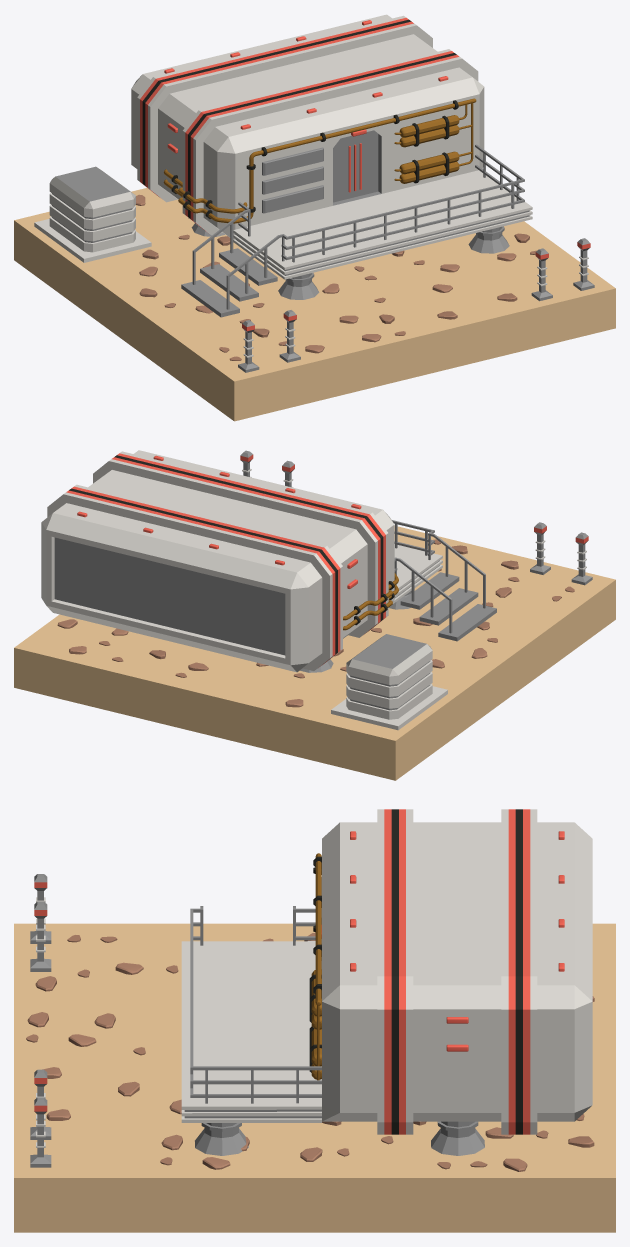
The model's file is 00 Space_19.FBX.
3 views of the same model, one above another, from view 1: azimuth 30°, elevation 25°; view 2: azimuth 150°, elevation 25°; view 3: azimuth 270°, elevation 25° (orthographic). The views are drawn at different scales.
Parts seen in each view (by area): view 1: Box043, Box001, Box048, Box071; view 2: Box043, Box001, Box048, Box087, Box086; view 3: Box043, Box001, Box071, Box086.
Boxes of the visible parts, x1=… form: Box043: x1=131, y1=14, x2=532, y2=317; Box001: x1=14, y1=188, x2=615, y2=421; Box048: x1=34, y1=166, x2=151, y2=262; Box071: x1=573, y1=238, x2=594, y2=290; Box043: x1=41, y1=450, x2=496, y2=672; Box001: x1=14, y1=526, x2=615, y2=780; Box048: x1=331, y1=634, x2=447, y2=730; Box087: x1=571, y1=532, x2=592, y2=585; Box086: x1=530, y1=522, x2=550, y2=574; Box043: x1=181, y1=809, x2=592, y2=1155; Box001: x1=14, y1=923, x2=615, y2=1232; Box071: x1=30, y1=1097, x2=51, y2=1167; Box086: x1=30, y1=901, x2=51, y2=971.
Bounding box in the file's own units: 10000 × 4444 × 10000.
